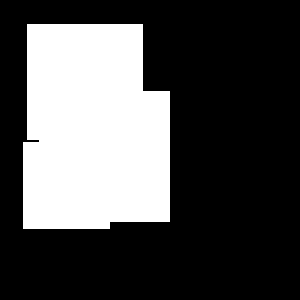circle: (39, 91, 170, 222), (27, 24, 143, 140), (23, 142, 110, 229)
